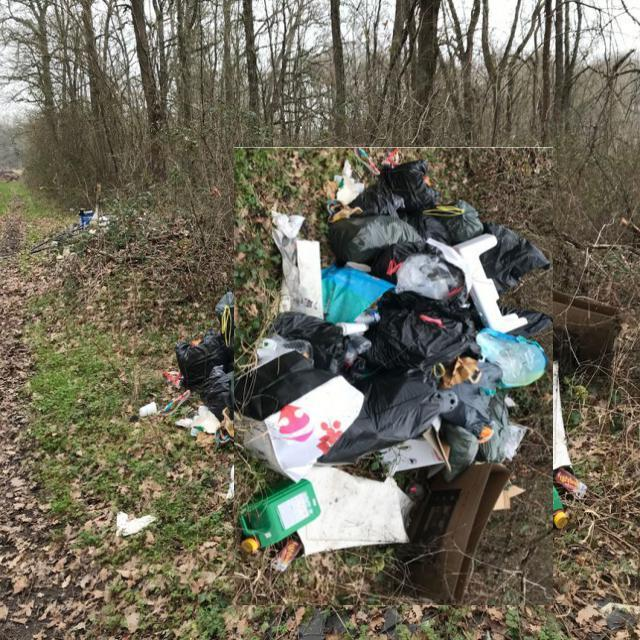Trashbag: (330, 378, 443, 462), (368, 298, 481, 368), (328, 205, 417, 268), (363, 162, 435, 214), (486, 231, 542, 294), (282, 306, 349, 357), (414, 205, 482, 251), (174, 334, 232, 382)
